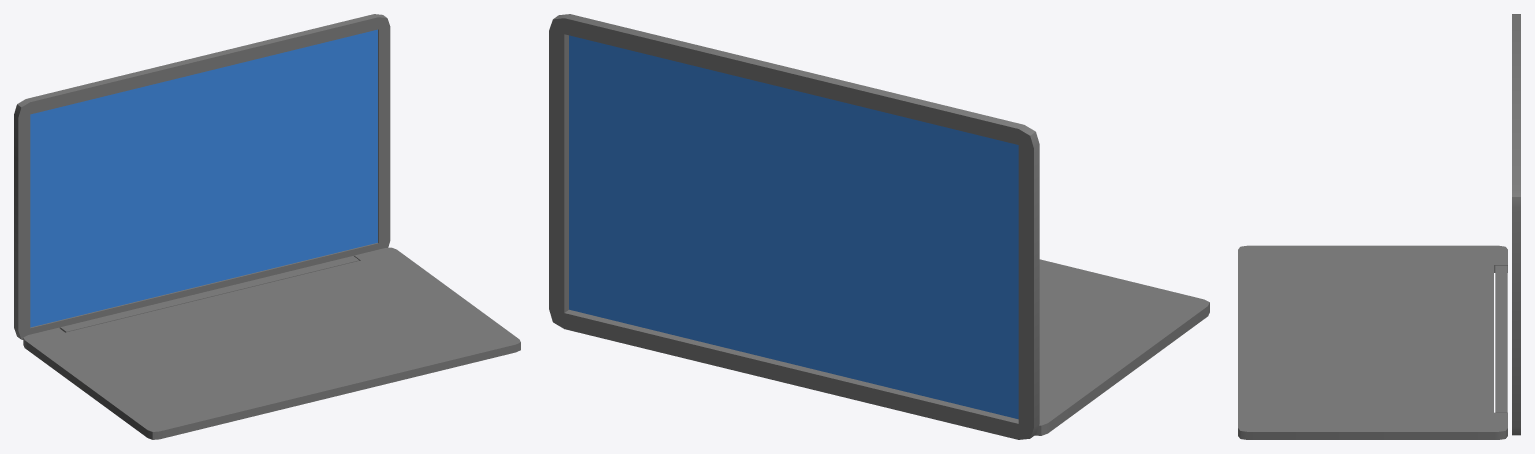
3 views of the same model, side by side, from view 1: azimuth 30°, elevation 25°; view 2: azimuth 150°, elevation 25°; view 3: azimuth 270°, elevation 25° (orthographic). The views are drawn at different scales.
Visible parts, largest first — view 1: Plane003, Object010; view 2: Plane003, Object010; view 3: Object010.
Boxes of the visible parts, box(x1,y1,x2,y2) form: Plane003: box(30, 29, 377, 327); Object010: box(14, 14, 520, 439); Plane003: box(569, 35, 1018, 419); Object010: box(549, 14, 1209, 439); Object010: box(1238, 14, 1520, 439).
Size of the model in its own units: 610 by 374 by 392.
